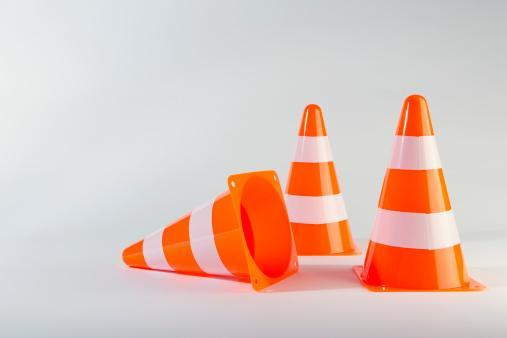Cone: (355, 93, 486, 294), (121, 169, 302, 293), (281, 102, 361, 257)
